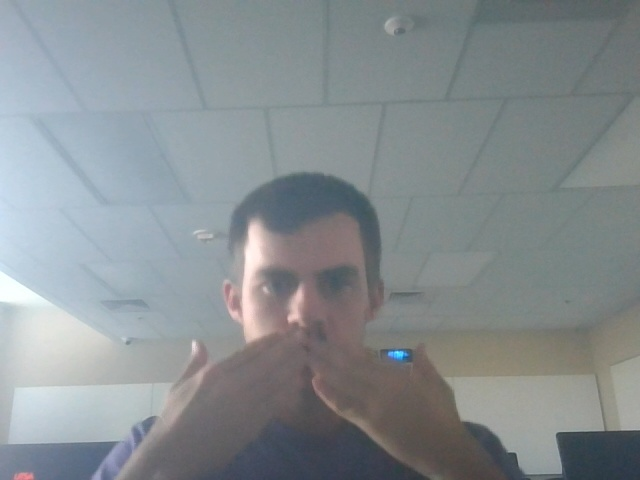thanks: (143, 323, 476, 464)
